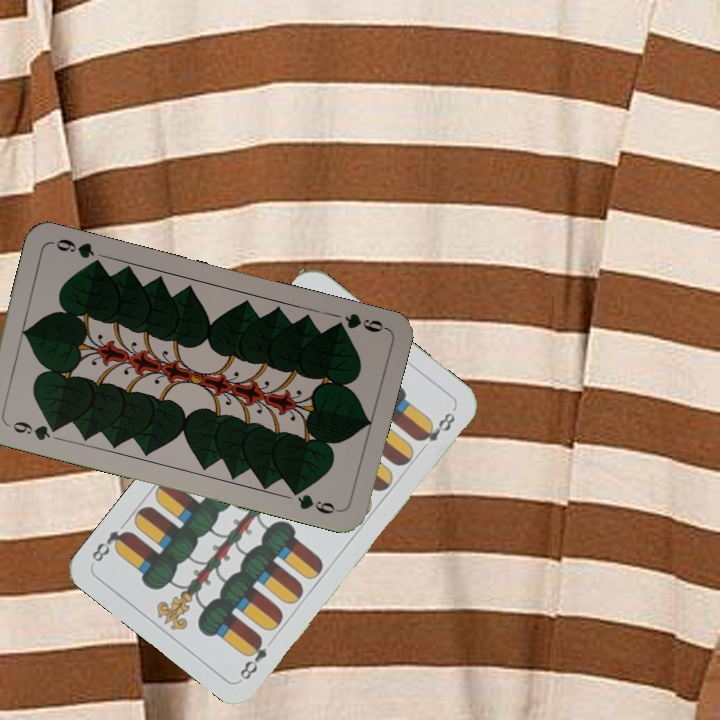E8: (235, 633, 270, 683)
G9: (327, 309, 388, 335), (8, 417, 63, 443)
